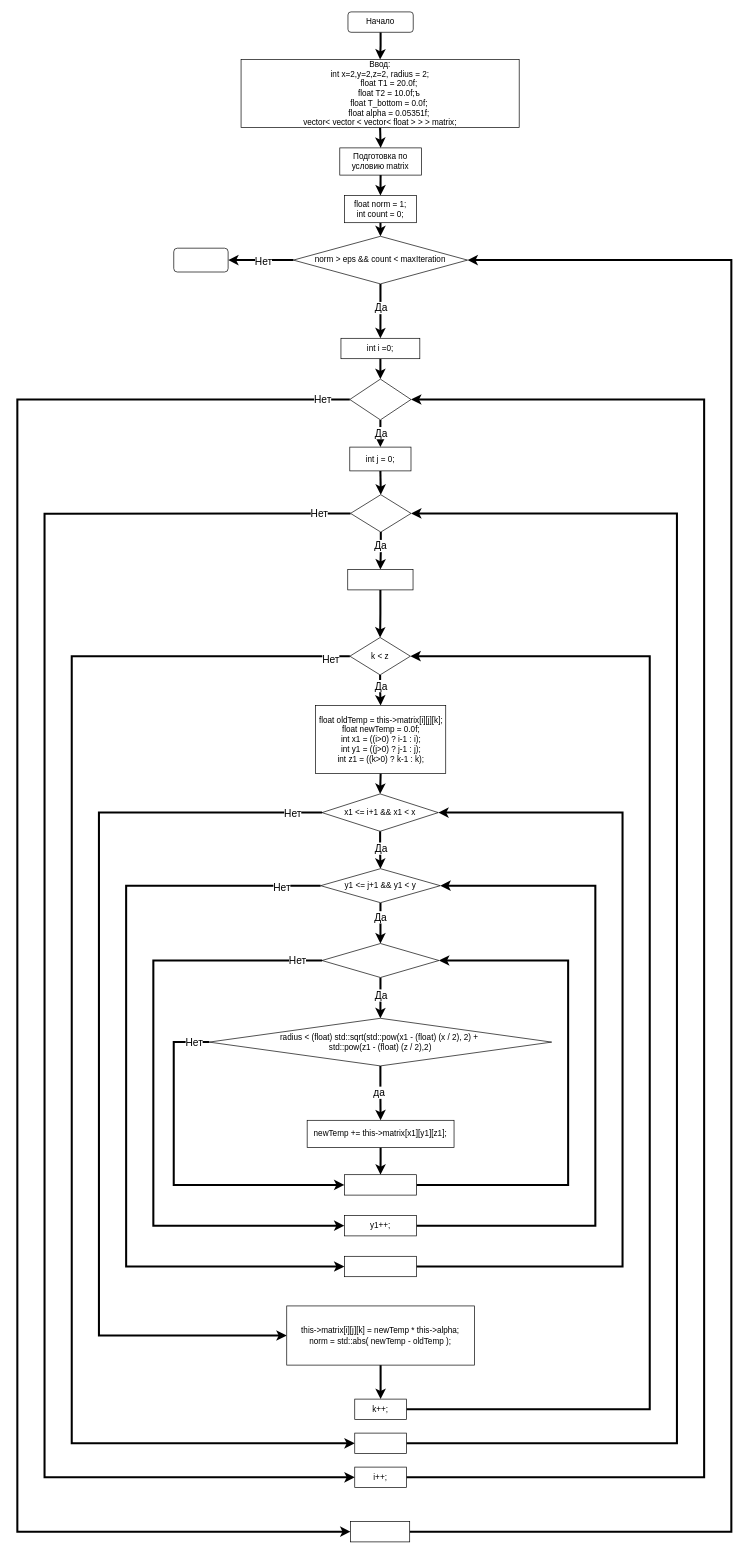
The diagram is 749 pixels wide and 1554 high, and some of its shapes have lost their labels. The centre of each missing label's shape, as x and y in pixels:
count++;: (x=380, y=1531)
i < x: (x=380, y=399)
int k = 0;: (x=380, y=579)
j < y: (x=380, y=513)
j++;: (x=380, y=1443)
x1++;: (x=380, y=1266)
z1 <= k+1 && z1 < z: (x=380, y=960)
z1++;: (x=380, y=1184)
Конец: (x=200, y=260)
